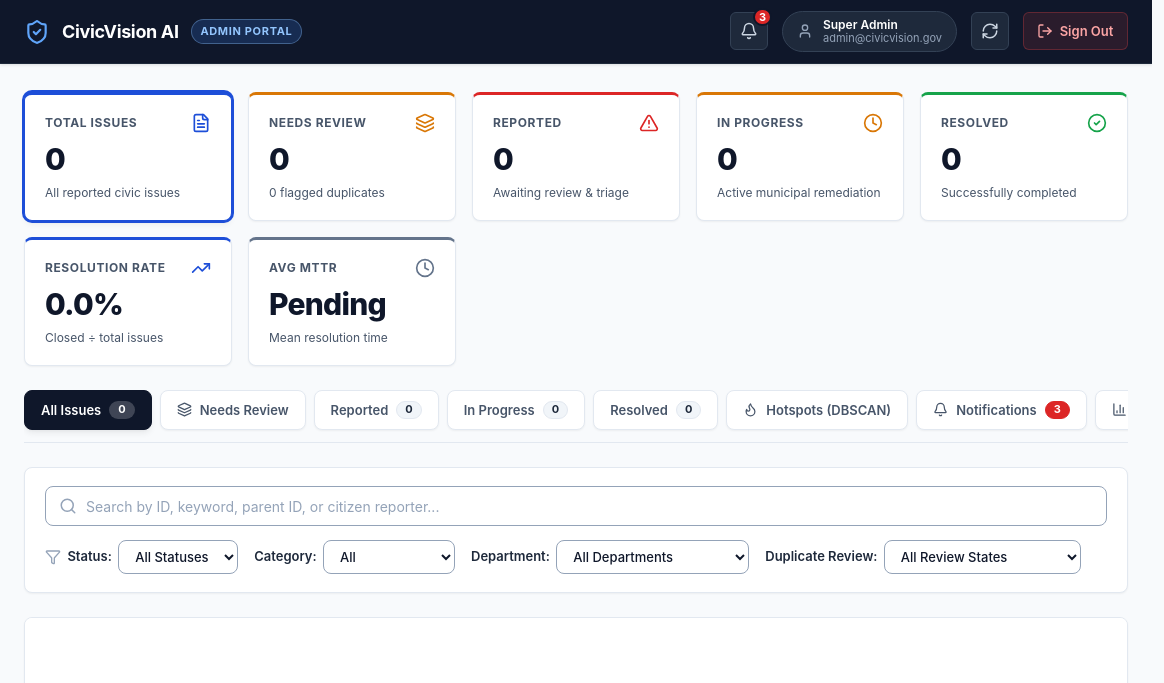
Test: Admin Frontend Application Tests › 21. Notification bell and tab render with unread count badge, and clicking opens Notification Center
The width and height of the screenshot is (1164, 683).
Expected: the text with test id "bell-unread-badge" reads "3", [759,10,766,24]
Expected: the button with test id "tab-notifications" is shown, [916,390,1087,430]
# Click on bell button to open Notification Center
Click the button with test id "btn-notification-bell" at (749, 32), box [730,12,768,50]
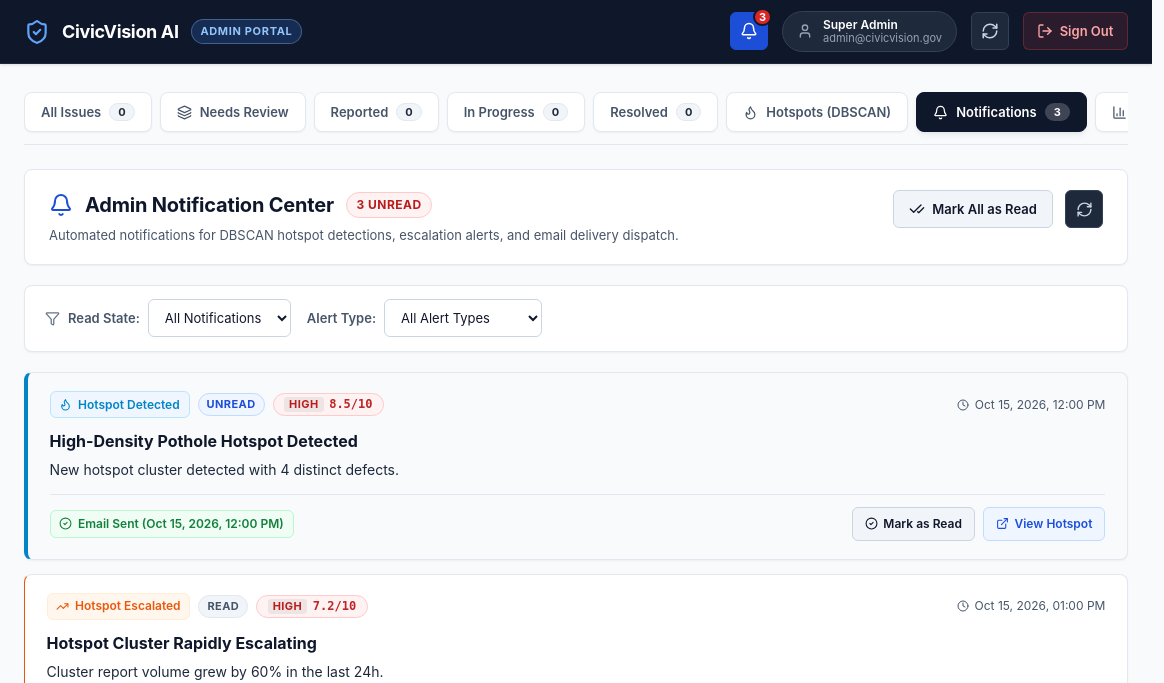
Now the heading "Admin Notification Center" is shown, box [85,190,334,220]
Now the text with test id "nc-unread-count-badge" reads "3 Unread", box [346,192,432,218]
Now the heading "High-Density Pothole Hotspot Detected" is shown, box [50,431,358,451]
